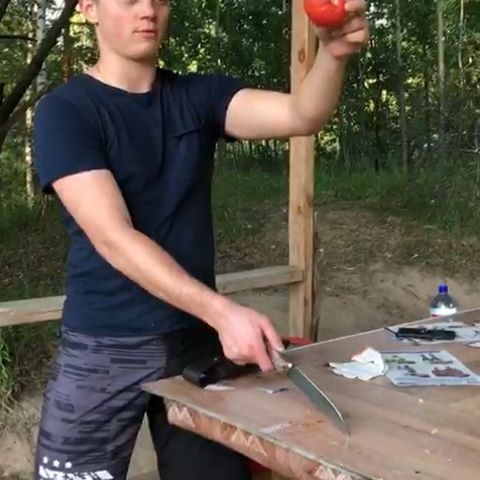knife: (272, 353, 349, 435)
